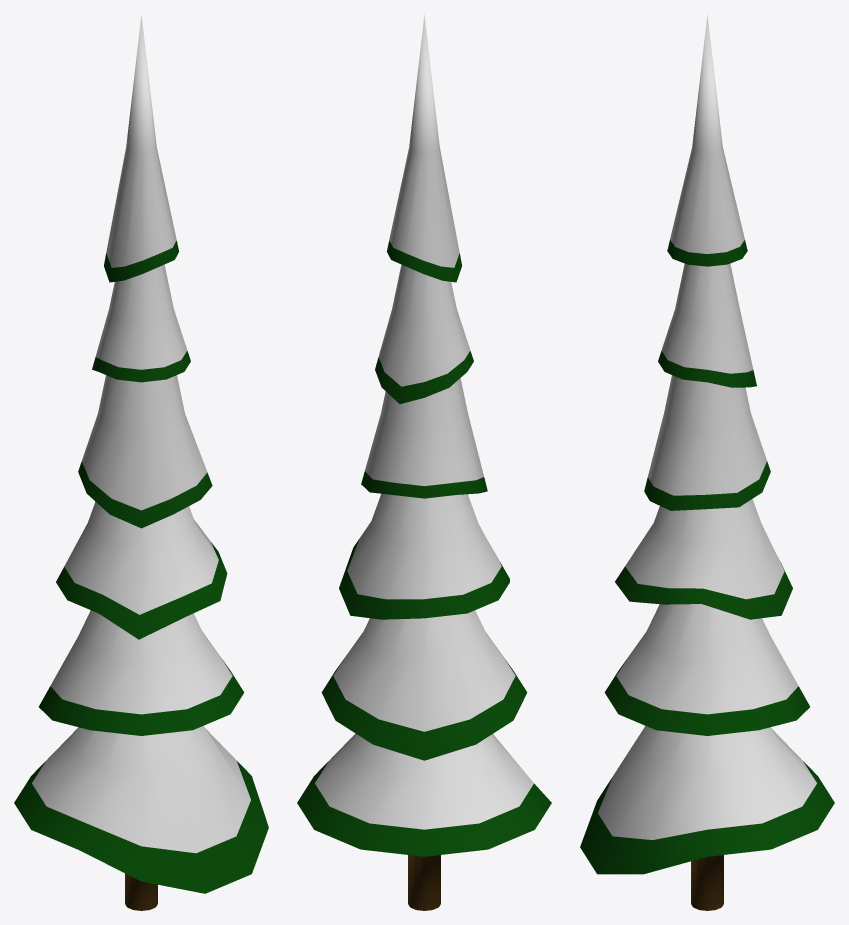
File: Tree3.fbx
3 renders of one model, left to right at view 1: azimuth 30°, elevation 25°; view 2: azimuth 150°, elevation 25°; view 3: azimuth 270°, elevation 25°, orthographic.
Parts seen in each view (by area): view 1: pCylinder27; view 2: pCylinder27; view 3: pCylinder27.
Part boxes in pixels (x1,y1,x2,y2): pCylinder27: (14,14,268,910); pCylinder27: (297,14,551,910); pCylinder27: (580,14,834,910).
Bounding box in the file's own units: 8.72 × 33.6 × 8.72.
